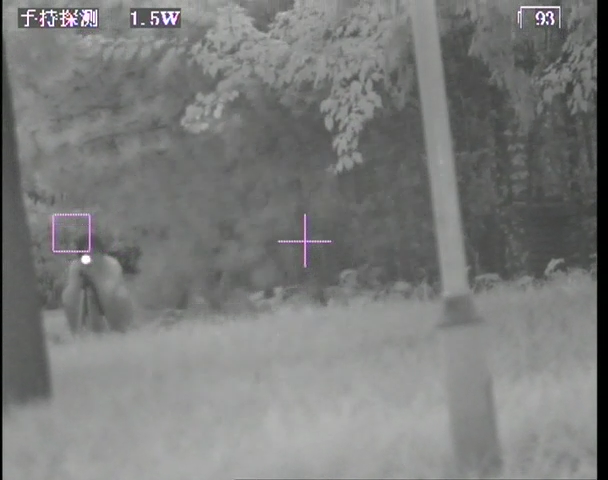my: (78, 254, 93, 265)
